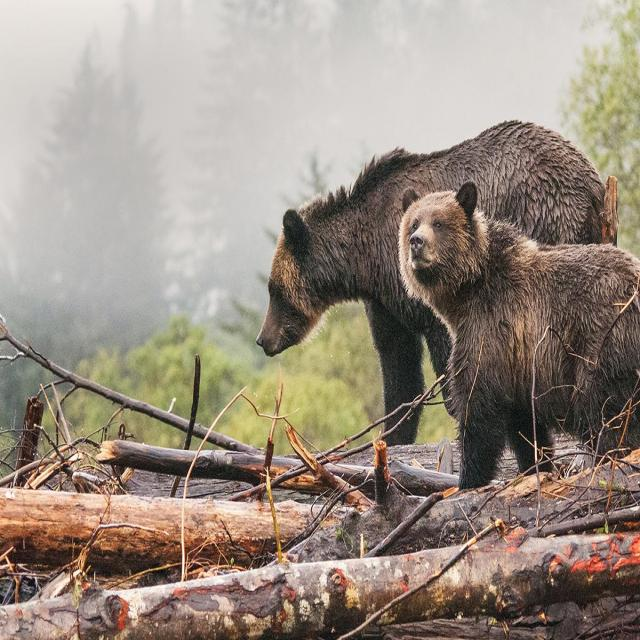Bear: (257, 121, 619, 439), (397, 183, 640, 493)
